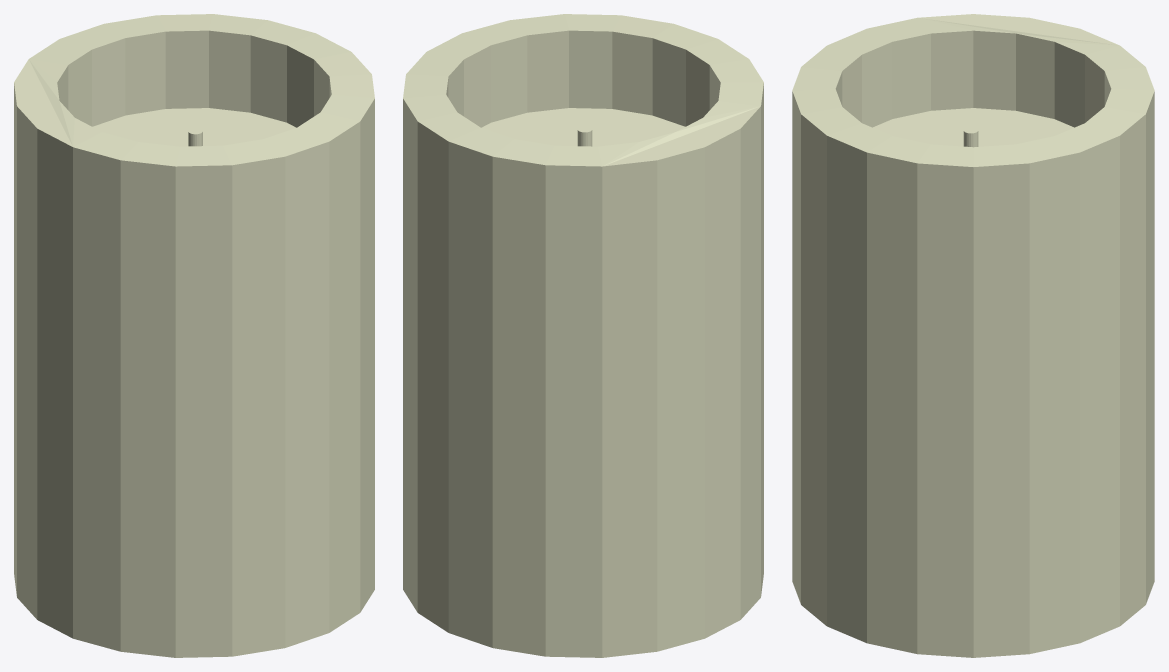
File: Horror_Large_Candle.fbx
3 views of the same model, side by side, from view 1: azimuth 30°, elevation 25°; view 2: azimuth 150°, elevation 25°; view 3: azimuth 270°, elevation 25° (orthographic).
Parts seen in each view (by area): view 1: pCylinder46; view 2: pCylinder46; view 3: pCylinder46.
Part boxes in pixels (bbox=[...]): pCylinder46: bbox=[14, 14, 374, 657]; pCylinder46: bbox=[403, 14, 763, 657]; pCylinder46: bbox=[792, 14, 1154, 657].
Bounding box in the file's own units: 20.09 × 30.11 × 20.09.
